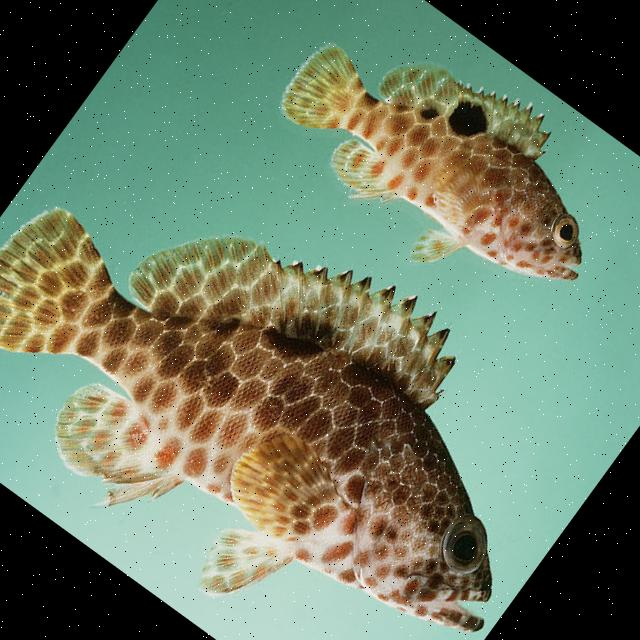ikan: (0, 77, 618, 640), (247, 0, 640, 343)
